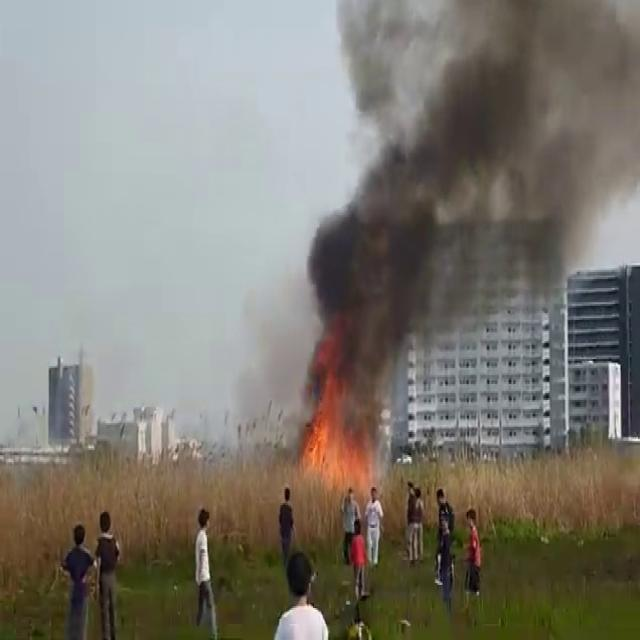Fire: (294, 390, 376, 497)
Smoke: (297, 0, 640, 405)
